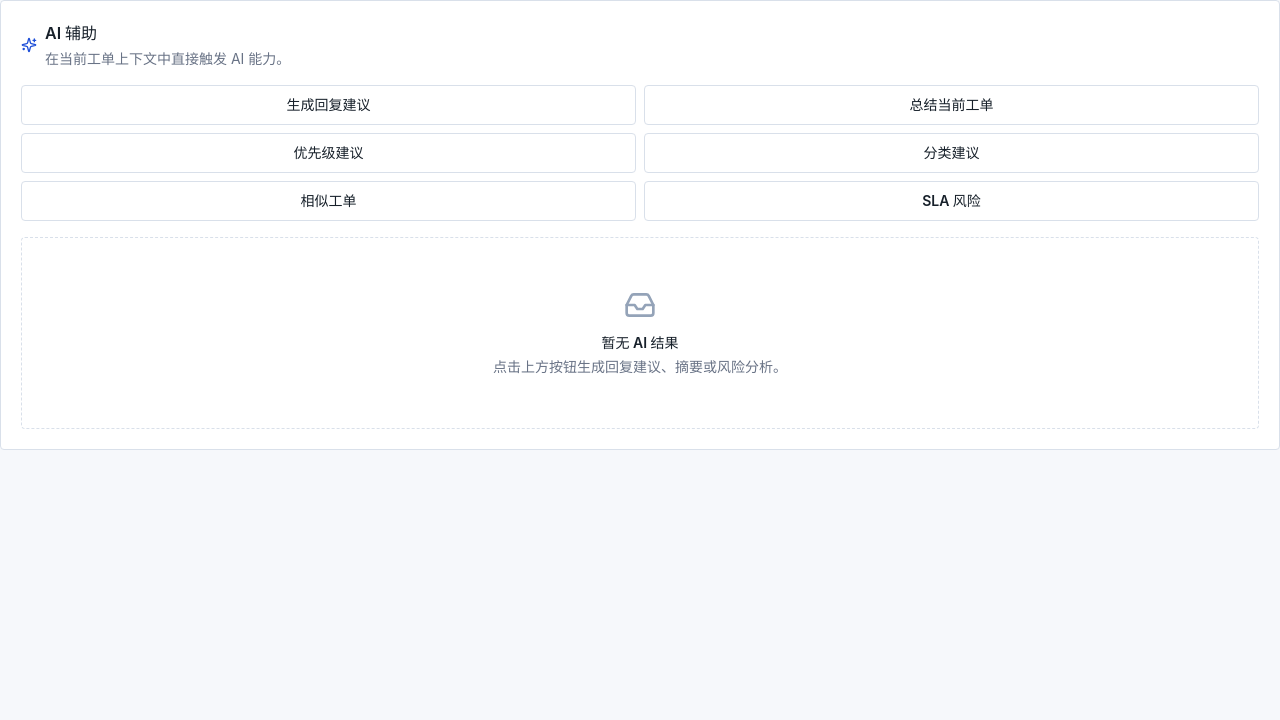
Test: TicketAiAssistantPanel › shows apply category action to staff and creates a pending action
Click the button "分类建议": (952, 153) [644,133,1259,173]
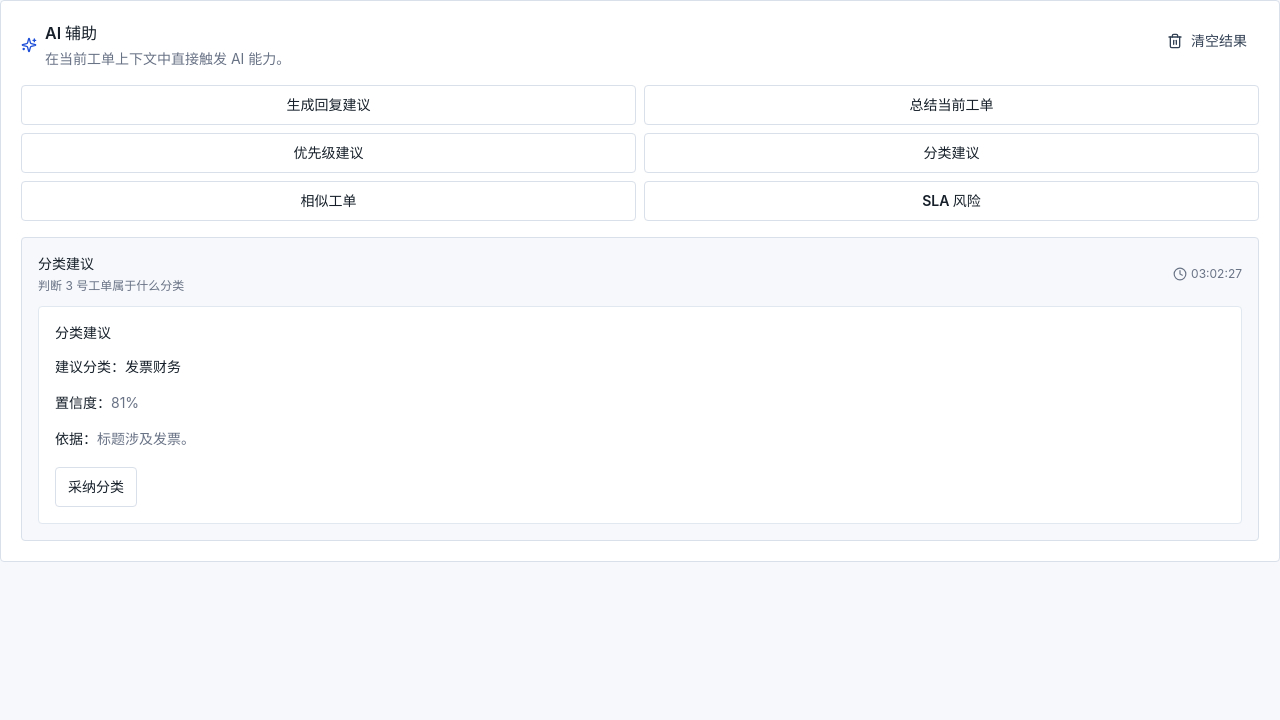
Click the button "采纳分类": (96, 487) [55,467,137,507]
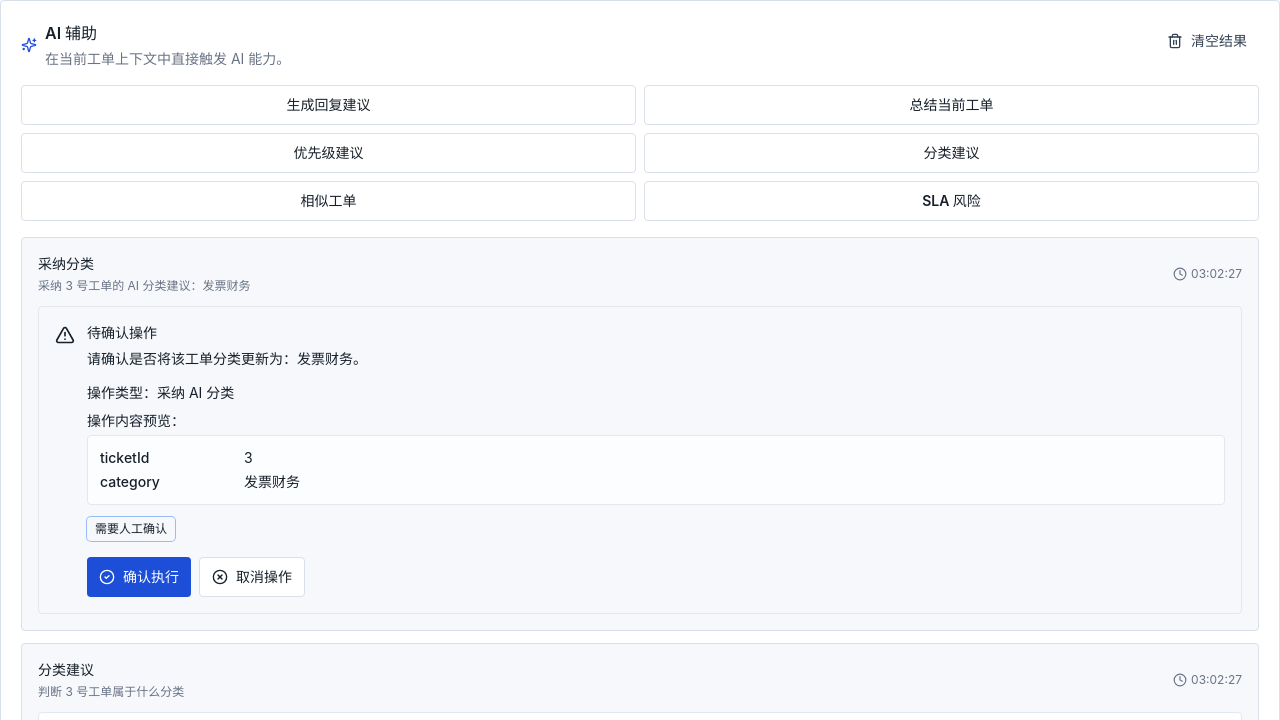
Now the text "待确认操作" is shown, box [87,324,157,341]
